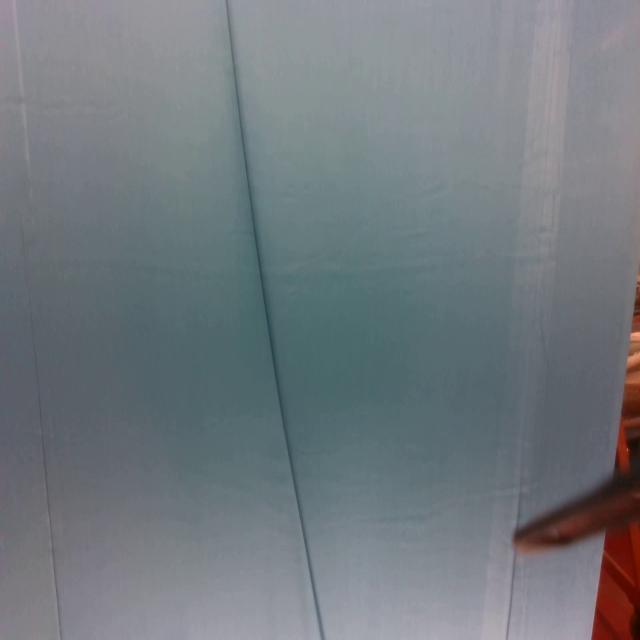crease: (224, 0, 326, 640), (499, 0, 566, 513), (16, 209, 66, 640), (12, 1, 35, 190), (490, 556, 520, 640)
